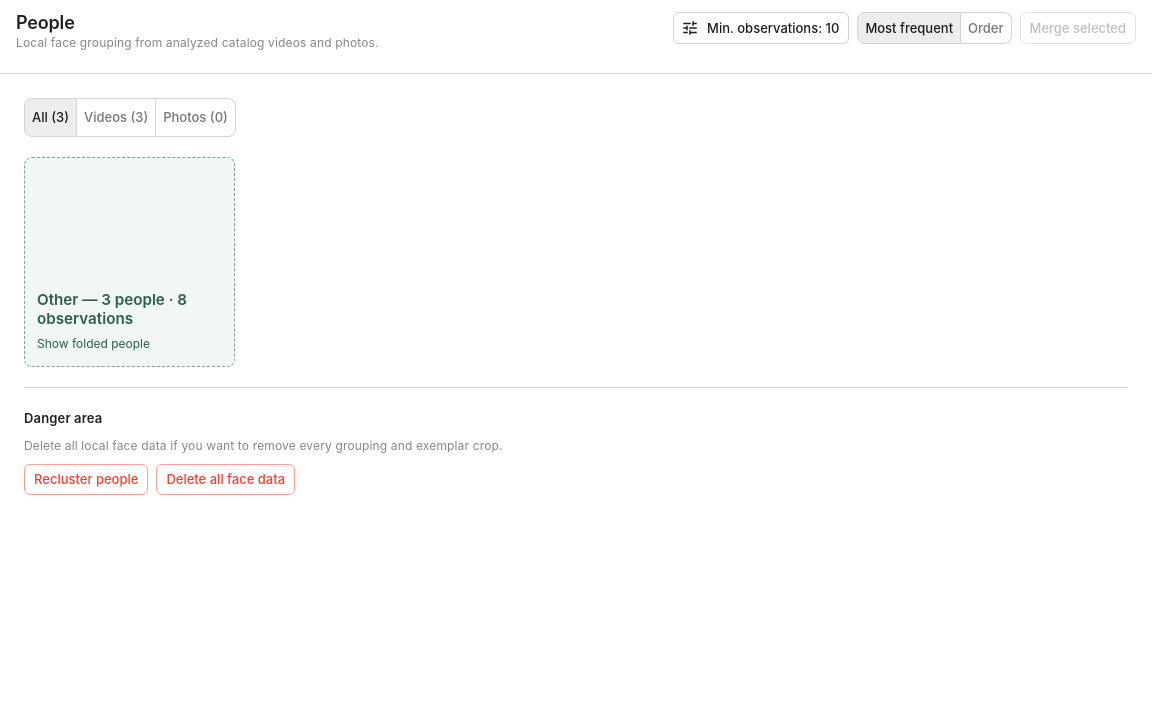
PeopleView media chips › persists the rare-people threshold value
This screenshot has width=1152, height=720.
Expected: the element with test id "people-grid" is shown, x1=24 y1=157 x2=235 y2=367
Click the button with test id "people-threshold-button" at (761, 28), box x1=673 y1=12 x2=849 y2=44
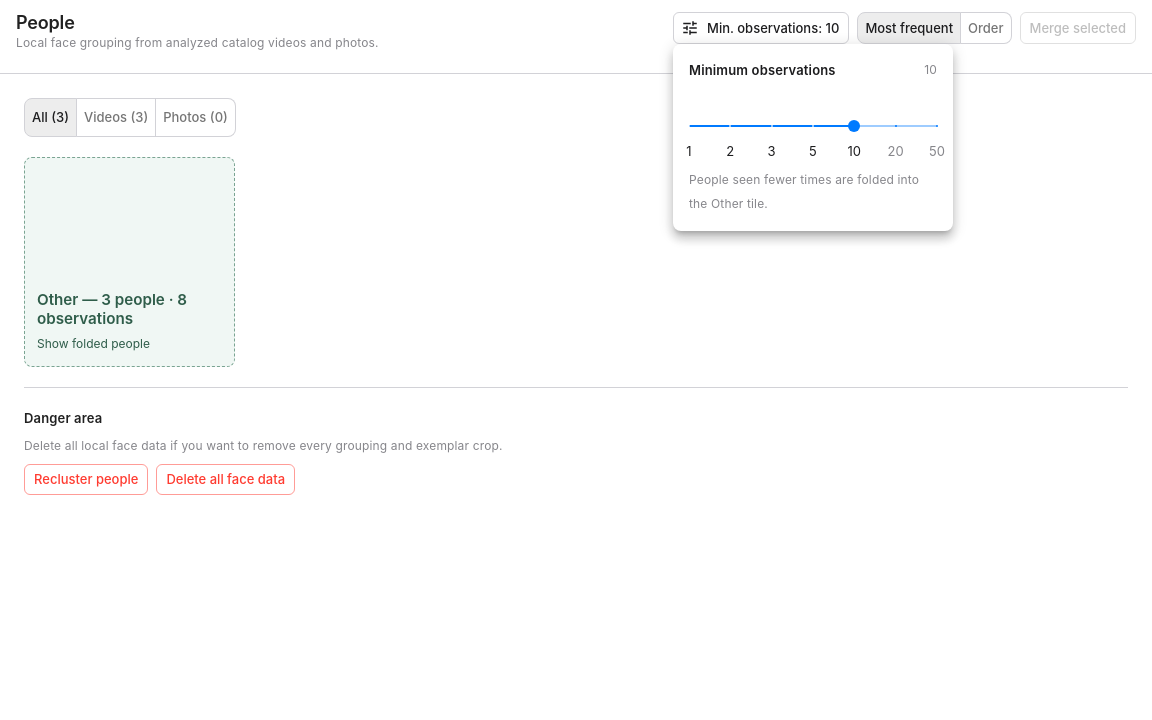
Set the slider named "Minimum observations" to "1" at (854, 126), box x1=848 y1=120 x2=860 y2=132
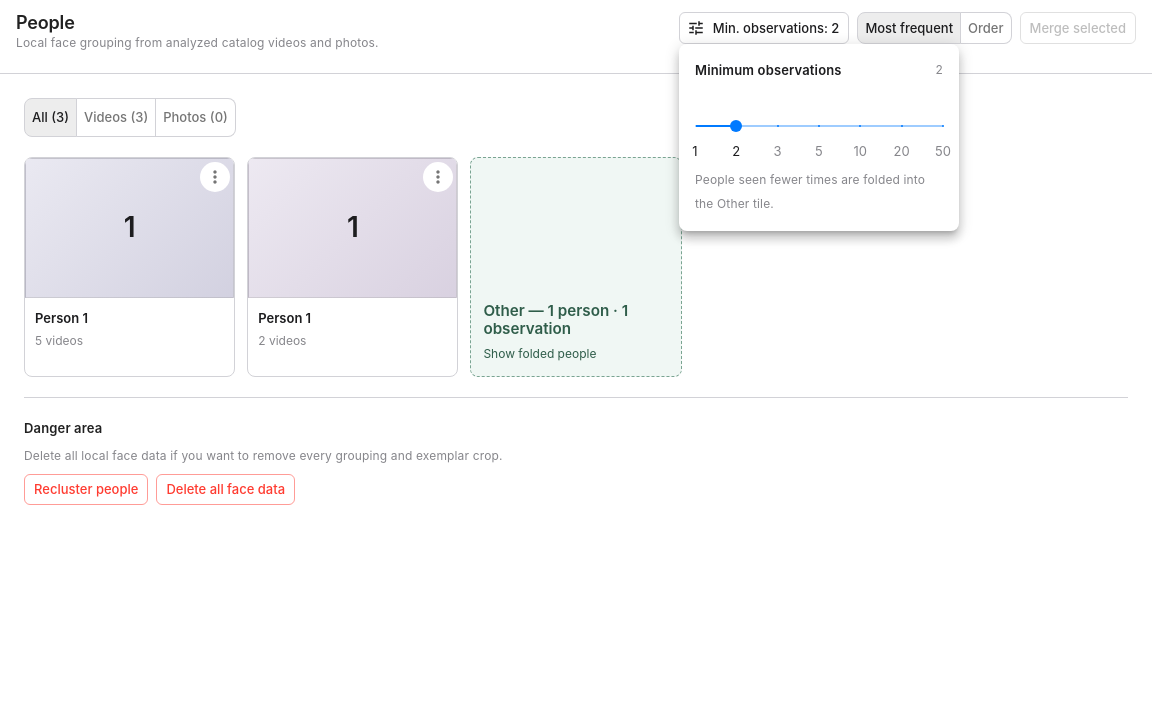
Now the button with test id "people-other-tile" shows "Other — 1 person · 1 observation", box x1=470 y1=157 x2=682 y2=377
